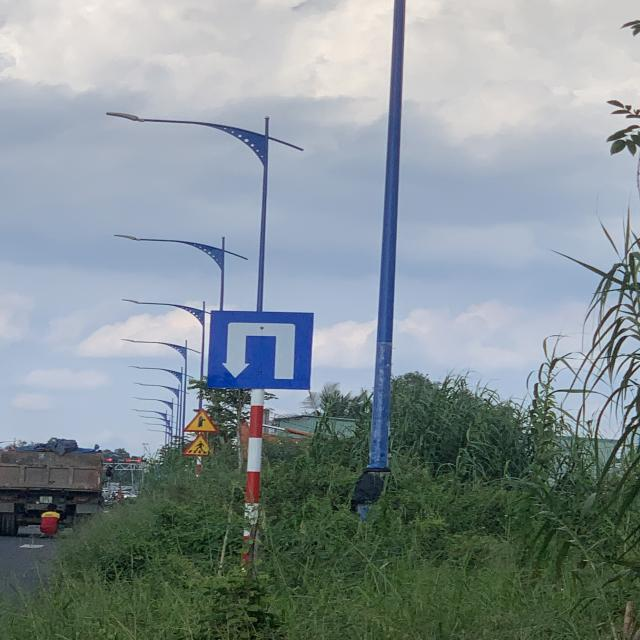Den_Giao_Thong: (208, 310, 315, 389)
